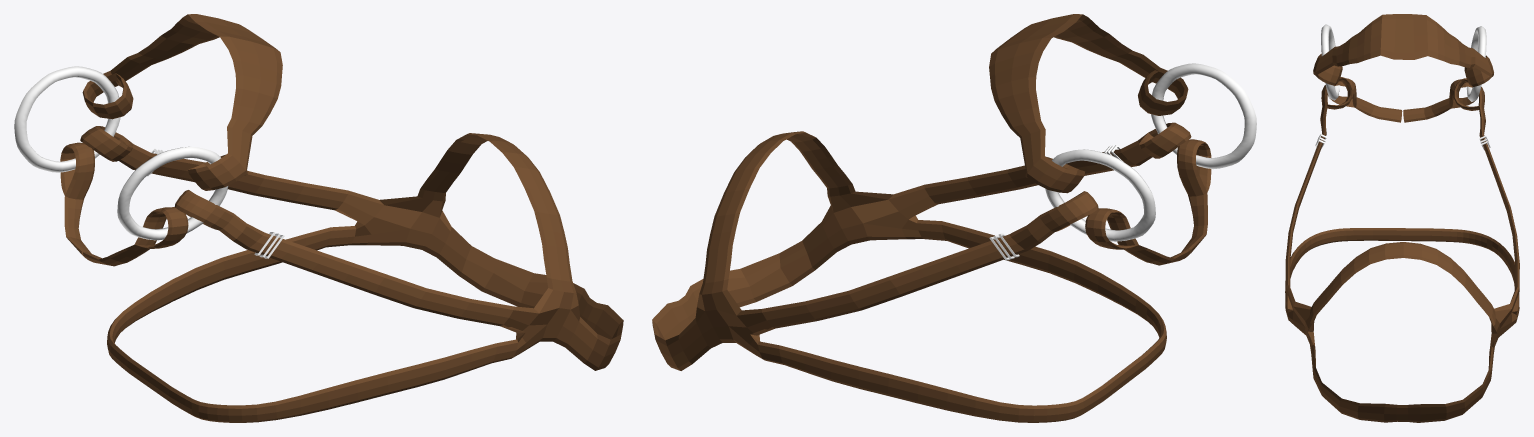
Rendered from Brida_Arabe.glb.
3 views of the same model, side by side, from view 1: azimuth 30°, elevation 25°; view 2: azimuth 150°, elevation 25°; view 3: azimuth 270°, elevation 25° (orthographic). The views are drawn at different scales.
Parts seen in each view (by area): view 1: Brida_Arabe; view 2: Brida_Arabe; view 3: Brida_Arabe.
Part boxes in pixels (<box>): Brida_Arabe: <box>14,14,623,422</box>; Brida_Arabe: <box>652,14,1256,422</box>; Brida_Arabe: <box>1285,14,1519,422</box>.
Bounding box in the file's own units: 0.4645 × 0.3373 × 0.255.
